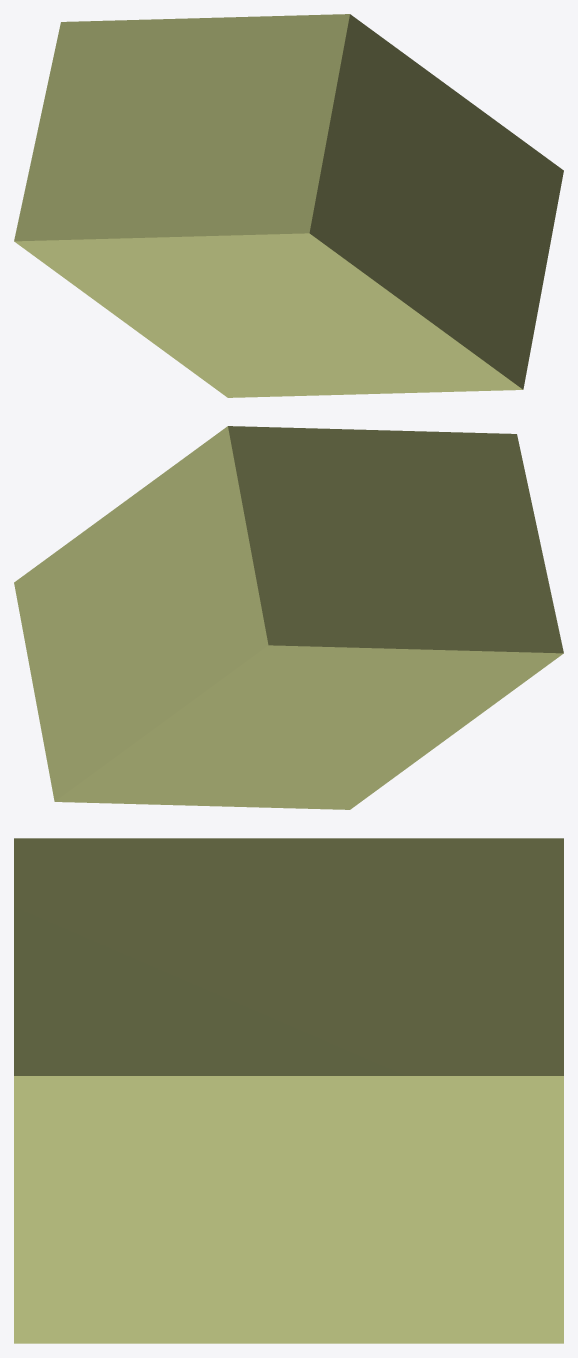
The picture shows the model from 3 angles, top to bottom: view 1: azimuth 30°, elevation 25°; view 2: azimuth 150°, elevation 25°; view 3: azimuth 270°, elevation 25°; orthographic projection. The views are drawn at different scales.
Parts seen in each view (by area): view 1: 0_1_2_0_3_3_2_1_0_0_2; view 2: 0_1_2_0_3_3_2_1_0_0_2; view 3: 0_1_2_0_3_3_2_1_0_0_2.
Part boxes in pixels (x1,y1,x2,y2): 0_1_2_0_3_3_2_1_0_0_2: (14, 14, 563, 397); 0_1_2_0_3_3_2_1_0_0_2: (14, 426, 563, 809); 0_1_2_0_3_3_2_1_0_0_2: (14, 838, 563, 1343).
Bounding box in the file's own units: 8.16 × 6.31 × 9.
